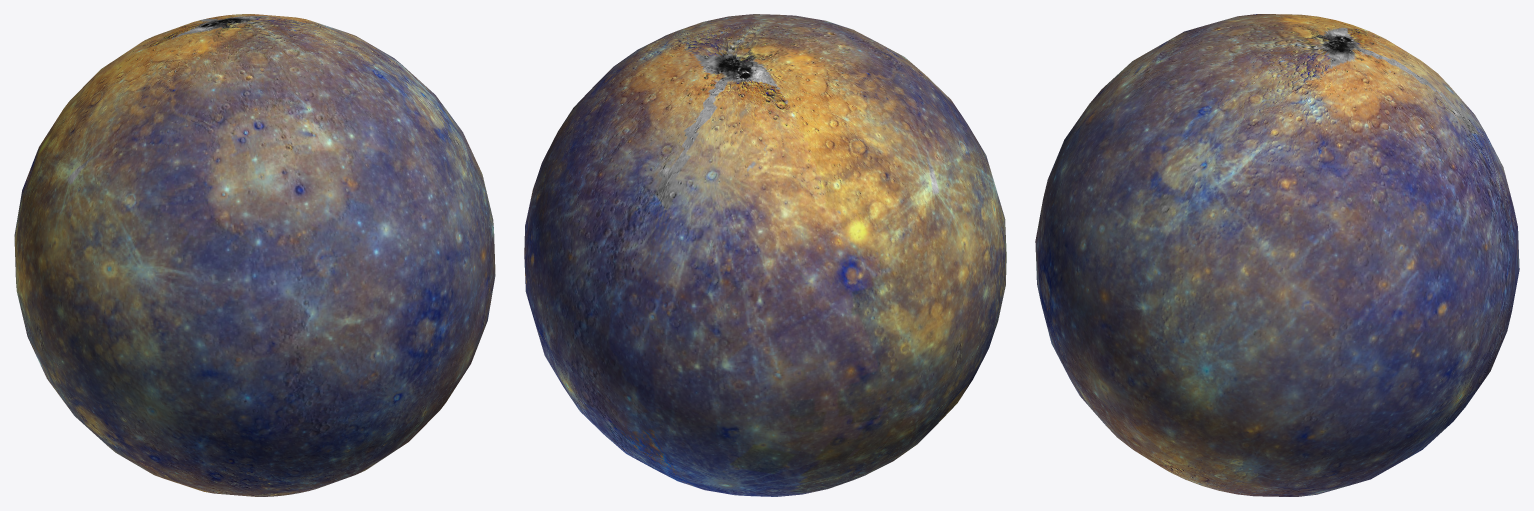
File: mercury.glb
3 views of the same model, side by side, from view 1: azimuth 30°, elevation 25°; view 2: azimuth 150°, elevation 25°; view 3: azimuth 270°, elevation 25° (orthographic).
Parts seen in each view (by area): view 1: Mercury; view 2: Mercury; view 3: Mercury.
Boxes of the visible parts, bbox=[...] form: Mercury: bbox=[14, 14, 495, 496]; Mercury: bbox=[524, 14, 1006, 496]; Mercury: bbox=[1035, 14, 1519, 496].
Bounding box in the file's own units: 16.06 × 16.02 × 16.02.
Materials: 1 (1 with a texture image).
